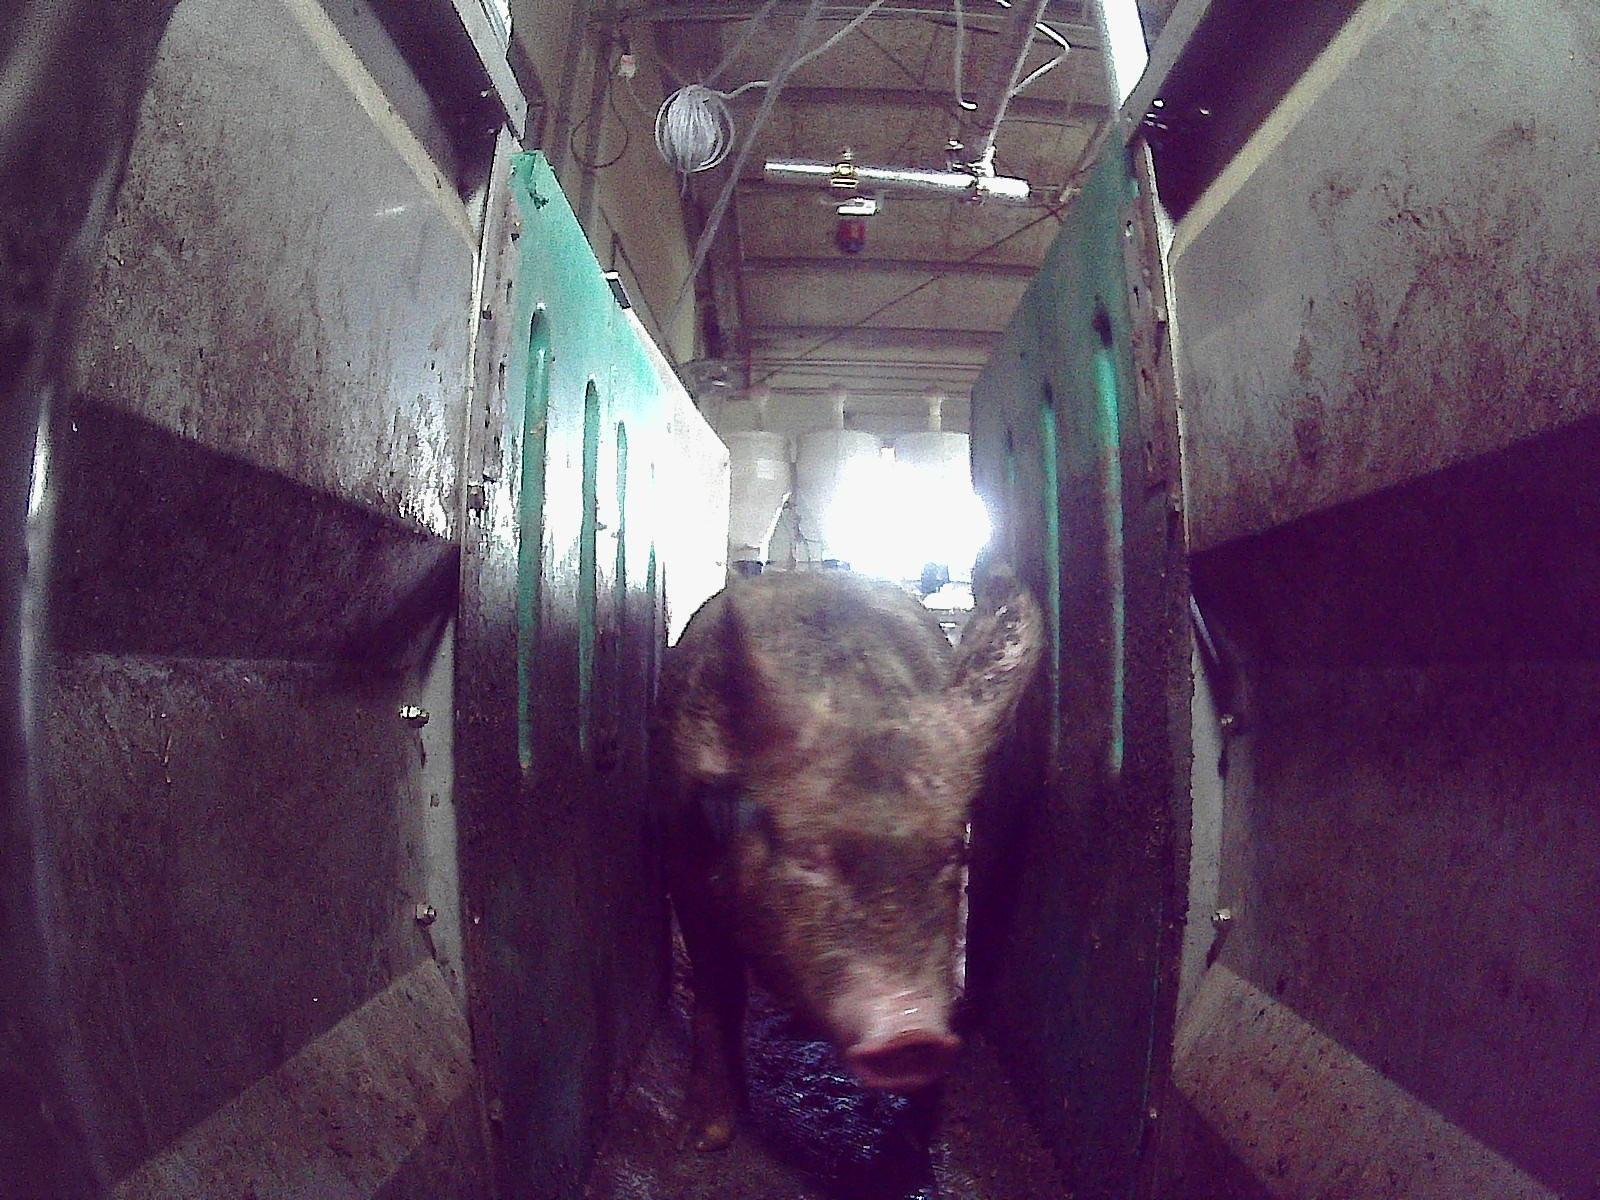Face: (732, 687, 973, 1091)
